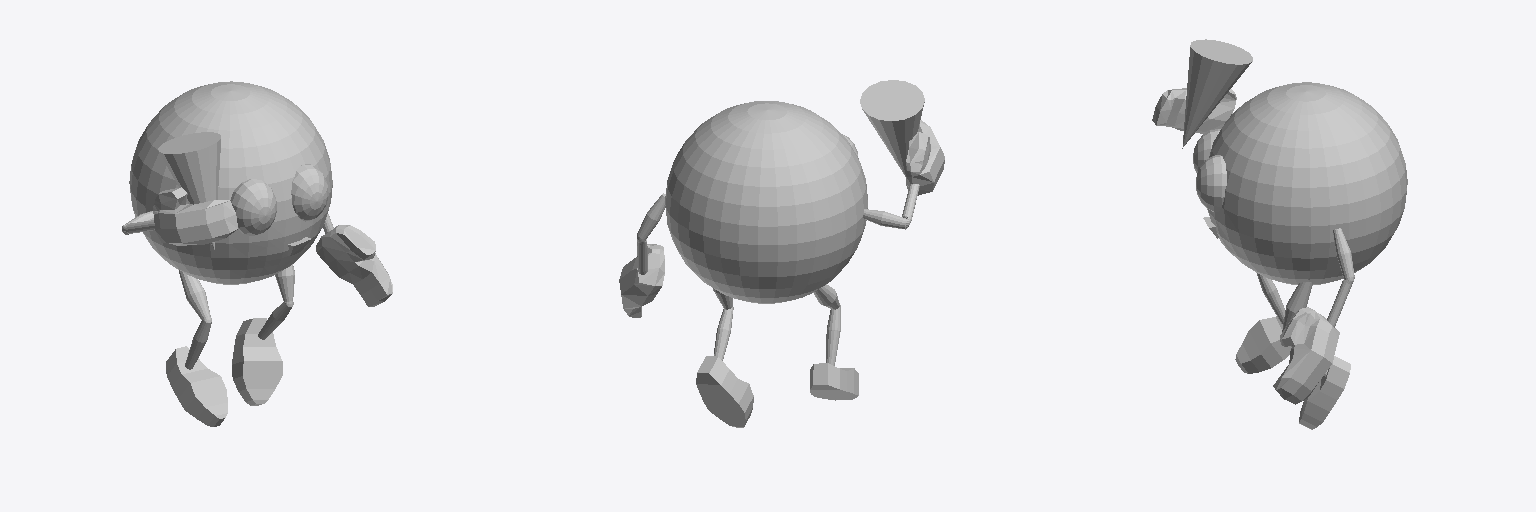
File: runToStand_000021.obj
3 views of the same model, side by side, from view 1: azimuth 30°, elevation 25°; view 2: azimuth 150°, elevation 25°; view 3: azimuth 270°, elevation 25° (orthographic).
Visible parts, largest first — view 1: Rusko_Sphere; view 2: Rusko_Sphere; view 3: Rusko_Sphere.
Part boxes in pixels (left/top/right/bottom): Rusko_Sphere: left=122, top=81, right=392, bottom=426; Rusko_Sphere: left=619, top=80, right=944, bottom=427; Rusko_Sphere: left=1152, top=39, right=1407, bottom=429.
Bounding box in the file's own units: 6.25 × 7.14 × 5.02.